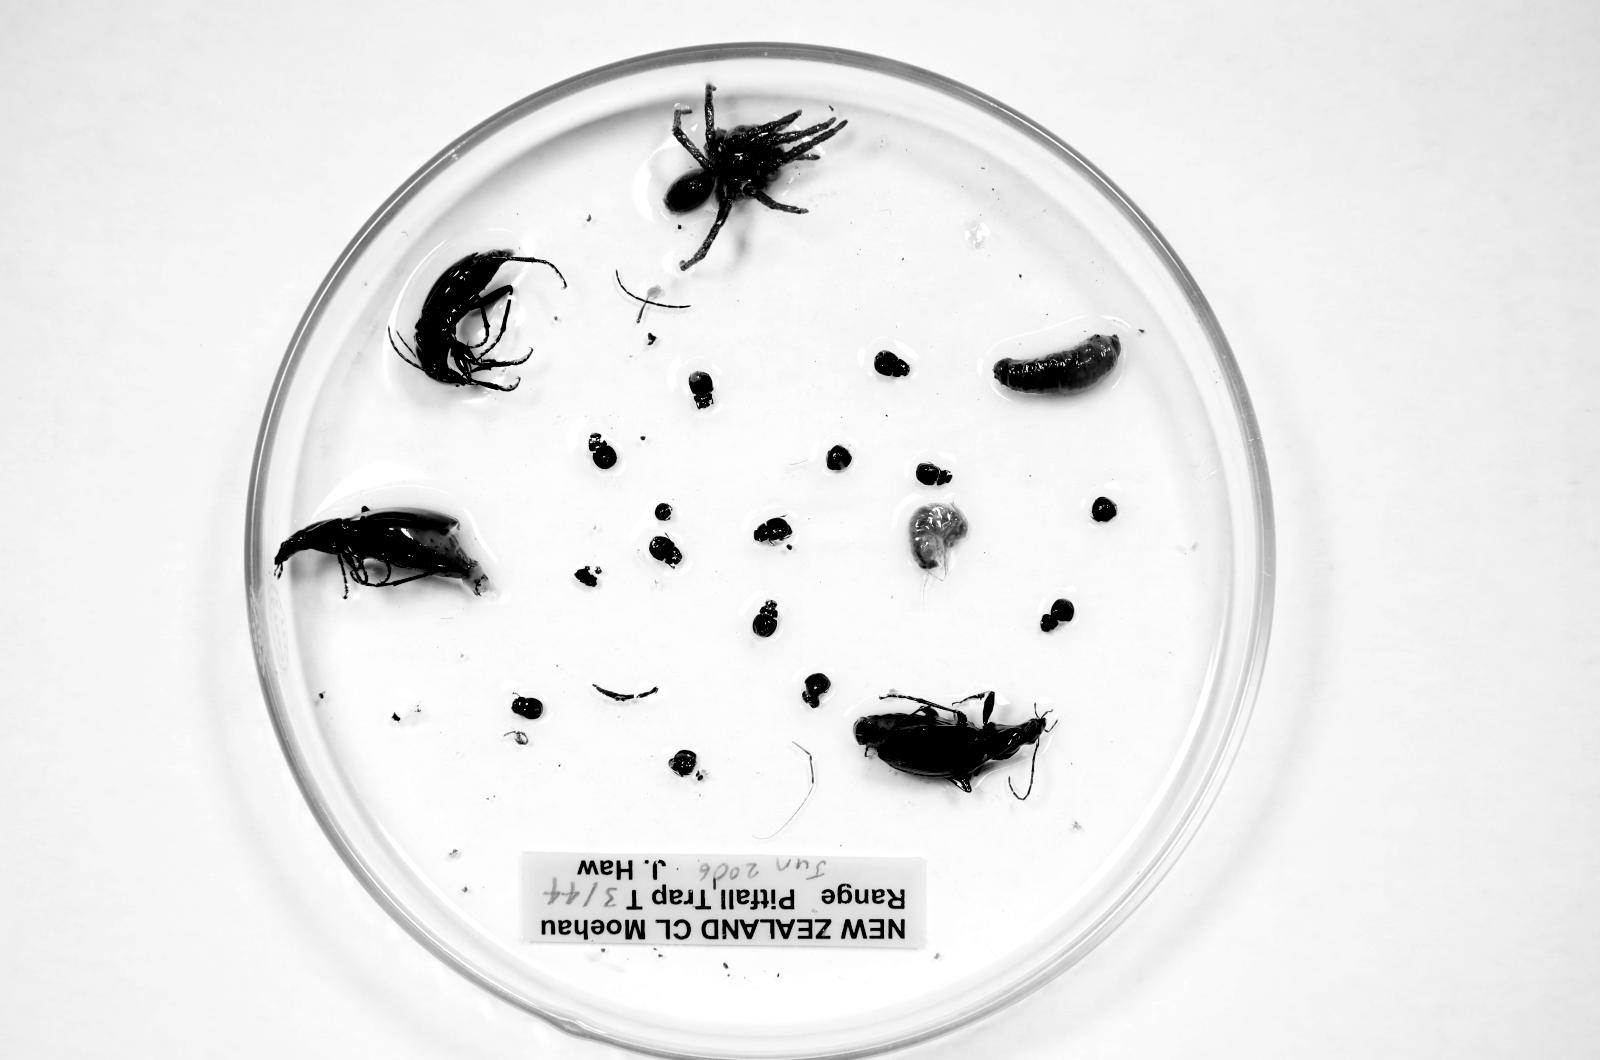amphipoda: (909, 503, 967, 579)
araneae: (665, 84, 848, 271)
carabidae: (415, 250, 562, 392), (274, 508, 497, 599), (854, 692, 1047, 793)
coleoptera: (753, 516, 792, 544), (648, 536, 682, 568), (589, 433, 617, 470), (873, 350, 911, 377), (752, 600, 778, 638), (914, 461, 952, 486), (689, 371, 713, 409), (511, 693, 544, 719)
